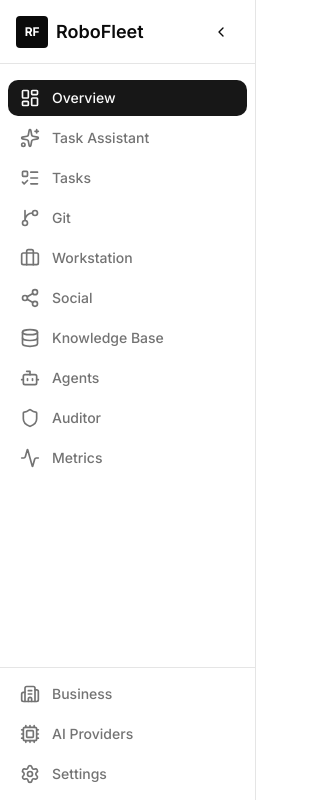
Test case: Sidebar — collapse toggle aria-label (tooltip-aria-label-spec §1a) › flips to 'Expand sidebar' once collapsed
Click the button named "Collapse sidebar" at (221, 32), box x1=203 y1=14 x2=239 y2=50
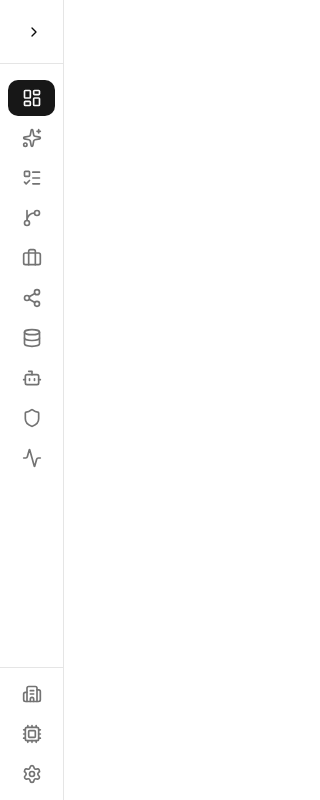
Expected: the button named "Expand sidebar" is shown, x1=16 y1=14 x2=52 y2=50
